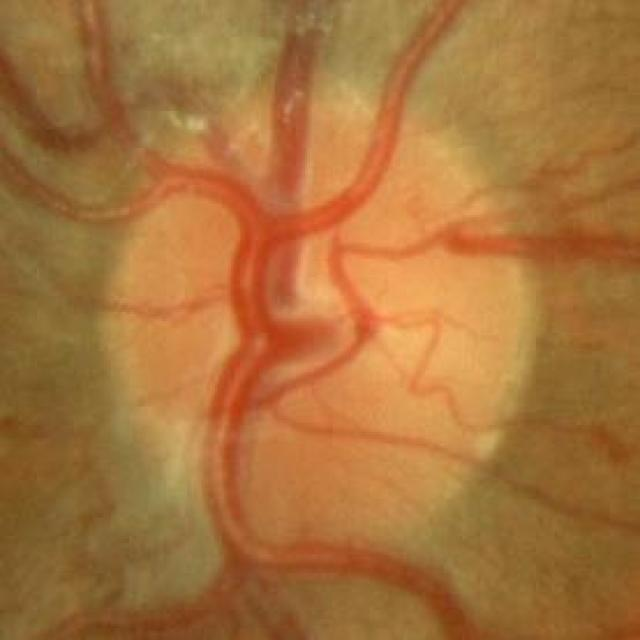OC: (219, 228, 344, 376)
OD: (121, 100, 540, 556)
